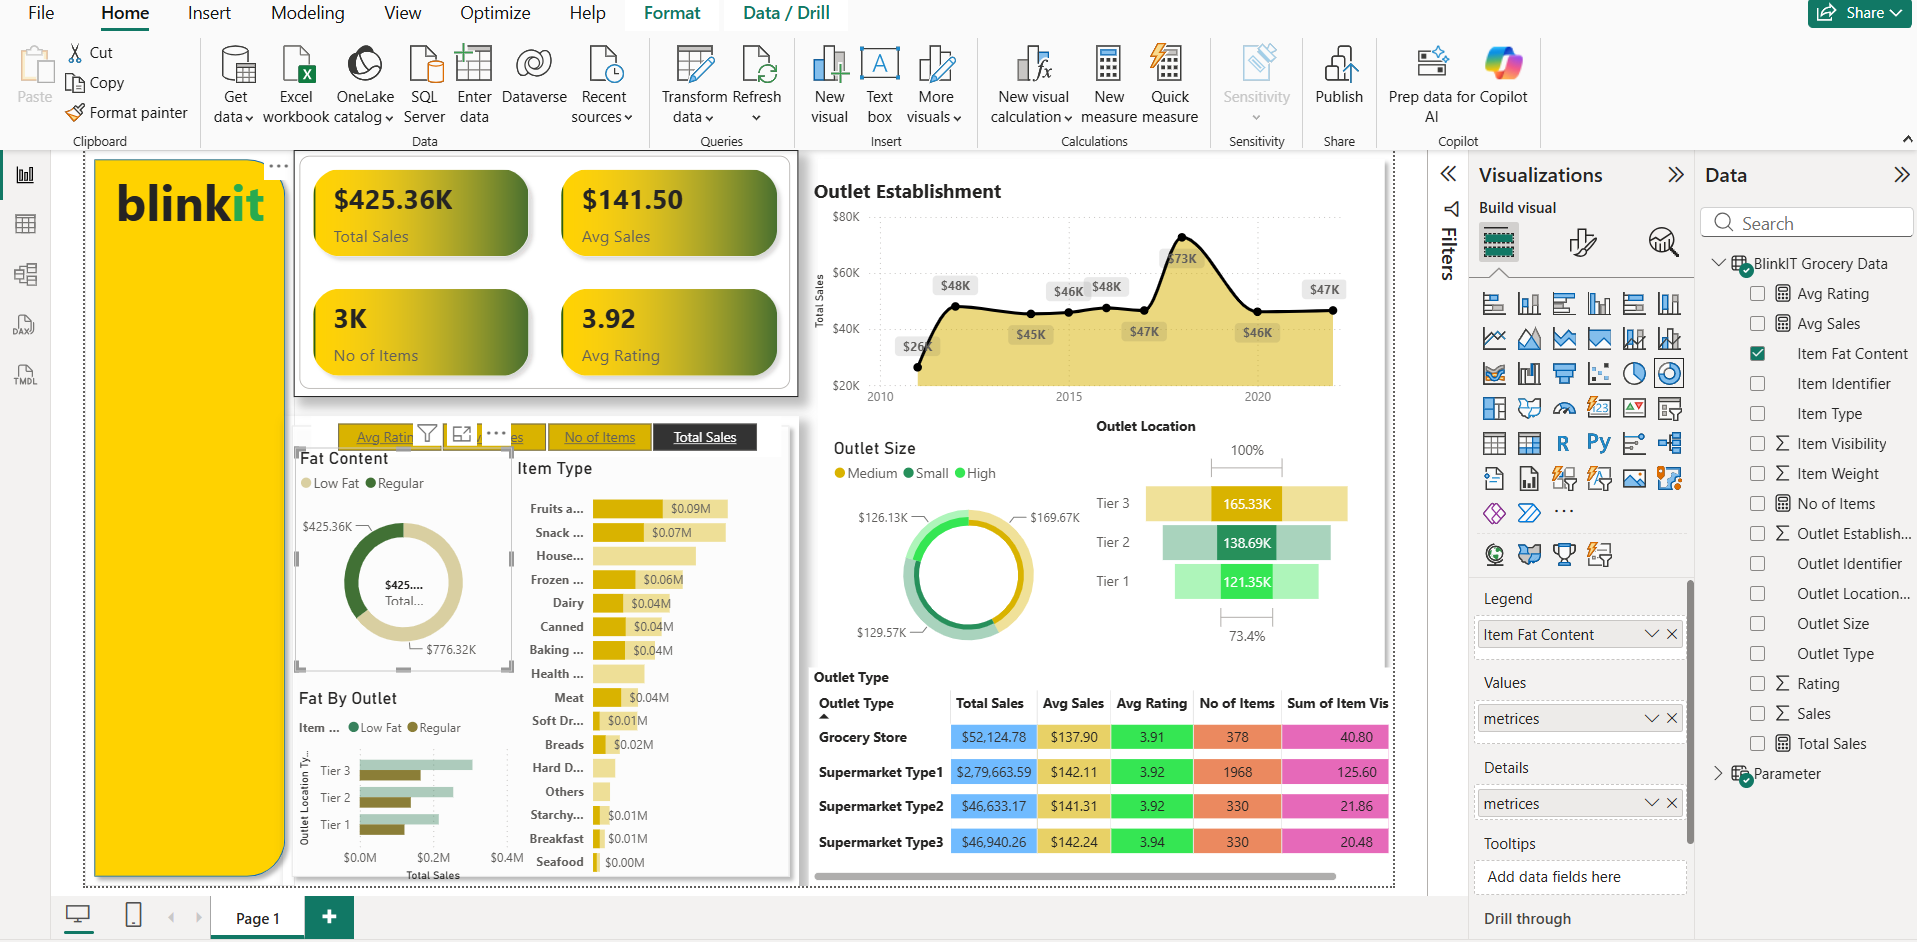

Layout of this report page (visuals, bound fields, positions):
{"tool":"powerbi","page":{"name":"Page 1","canvas":[1280,720],"ordinal":0},"visuals":[{"type":"shape","box":[0,0,205,720],"z":0},{"type":"textbox","box":[12.3,12.3,181.1,78.2],"z":1000},{"type":"cardVisual","fields":{"Data":["BlinkIT Grocery Data.Total Sales","BlinkIT Grocery Data.Avg Sales","BlinkIT Grocery Data.No of Items","BlinkIT Grocery Data.Avg Rating"]},"box":[204.5,0,494,241.5],"z":2000},{"type":"donutChart","title":"Fat Content","fields":{"Category":["BlinkIT Grocery Data.Item Fat Content"],"Y":["BlinkIT Grocery Data.Avg Rating","BlinkIT Grocery Data.Avg Sales","BlinkIT Grocery Data.No of Items","BlinkIT Grocery Data.Total Sales"]},"box":[204.2,278.8,212.8,231.1],"z":4000},{"type":"cardVisual","fields":{"Data":["BlinkIT Grocery Data.Total Sales"]},"box":[272.7,386.4,77,51.4],"z":6000},{"type":"clusteredBarChart","title":"Fat By Outlet","fields":{"Category":["BlinkIT Grocery Data.Outlet Location Type"],"Series":["BlinkIT Grocery Data.Item Fat Content"],"Y":["BlinkIT Grocery Data.Avg Rating"]},"box":[204.2,525.8,212.8,194.4],"z":7000},{"type":"barChart","title":"Item Type","fields":{"Category":["BlinkIT Grocery Data.Item Type"],"Y":["BlinkIT Grocery Data.Avg Rating","BlinkIT Grocery Data.Avg Sales","BlinkIT Grocery Data.No of Items","BlinkIT Grocery Data.Total Sales"]},"box":[418.2,278.8,264.1,441.4],"z":8000},{"type":"lineChart","title":"Outlet Establishment ","fields":{"Category":["BlinkIT Grocery Data.Outlet Establishment Year"],"Y":["BlinkIT Grocery Data.Total Sales"]},"box":[708,0,561.3,242.1],"z":10000},{"type":"donutChart","title":"Outlet Size","fields":{"Category":["BlinkIT Grocery Data.Outlet Size"],"Y":["BlinkIT Grocery Data.Avg Rating","BlinkIT Grocery Data.Avg Sales","BlinkIT Grocery Data.No of Items","BlinkIT Grocery Data.Total Sales"]},"box":[698.2,260.5,276.4,225],"z":11000},{"type":"funnel","title":"Outlet Location","fields":{"Category":["BlinkIT Grocery Data.Outlet Location Type"],"Y":["Sum(BlinkIT Grocery Data.Sales)"]},"box":[1007.6,260.5,272.7,225],"z":12000},{"type":"pivotTable","title":"Outlet Type","fields":{"Rows":["BlinkIT Grocery Data.Outlet Type"],"Values":["BlinkIT Grocery Data.Total Sales","BlinkIT Grocery Data.Avg Sales","BlinkIT Grocery Data.Avg Rating","BlinkIT Grocery Data.No of Items","Sum(BlinkIT Grocery Data.Item Visibility)"]},"box":[708,509.9,572.3,210.3],"z":13000}]}

Visuals, with their boxes on the page's 1280x720 design canvas (x1, y1, x2, y2). These are canvas units, not pixel positions in the 1917x942 screenshot, which may show the page scaled, cropped or inside an application window:
shape: [x1=0, y1=0, x2=205, y2=720]
textbox: [x1=12, y1=12, x2=193, y2=90]
cardVisual - BlinkIT Grocery Data.Total Sales x BlinkIT Grocery Data.Avg Sales: [x1=204, y1=0, x2=698, y2=242]
"Fat Content" donutChart: [x1=204, y1=279, x2=417, y2=510]
cardVisual - BlinkIT Grocery Data.Total Sales: [x1=273, y1=386, x2=350, y2=438]
"Fat By Outlet" clusteredBarChart: [x1=204, y1=526, x2=417, y2=720]
"Item Type" barChart: [x1=418, y1=279, x2=682, y2=720]
"Outlet Establishment " lineChart: [x1=708, y1=0, x2=1269, y2=242]
"Outlet Size" donutChart: [x1=698, y1=260, x2=975, y2=486]
"Outlet Location" funnel: [x1=1008, y1=260, x2=1280, y2=486]
"Outlet Type" pivotTable: [x1=708, y1=510, x2=1280, y2=720]
